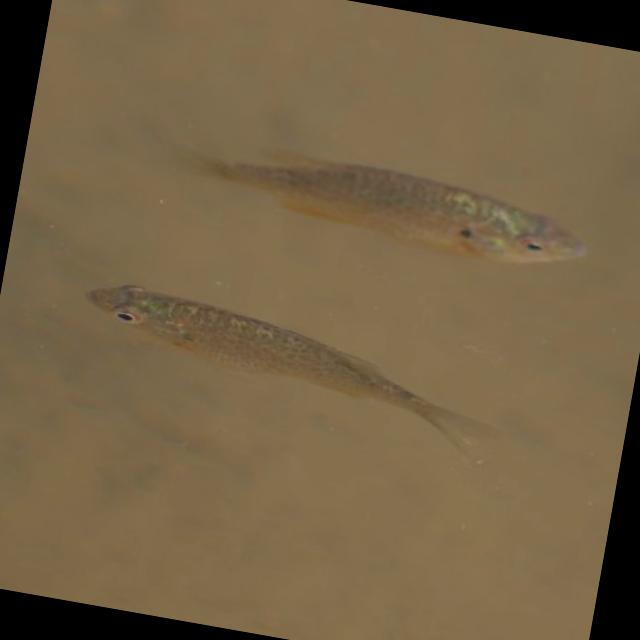Gunes Levregi: (184, 130, 602, 284)
